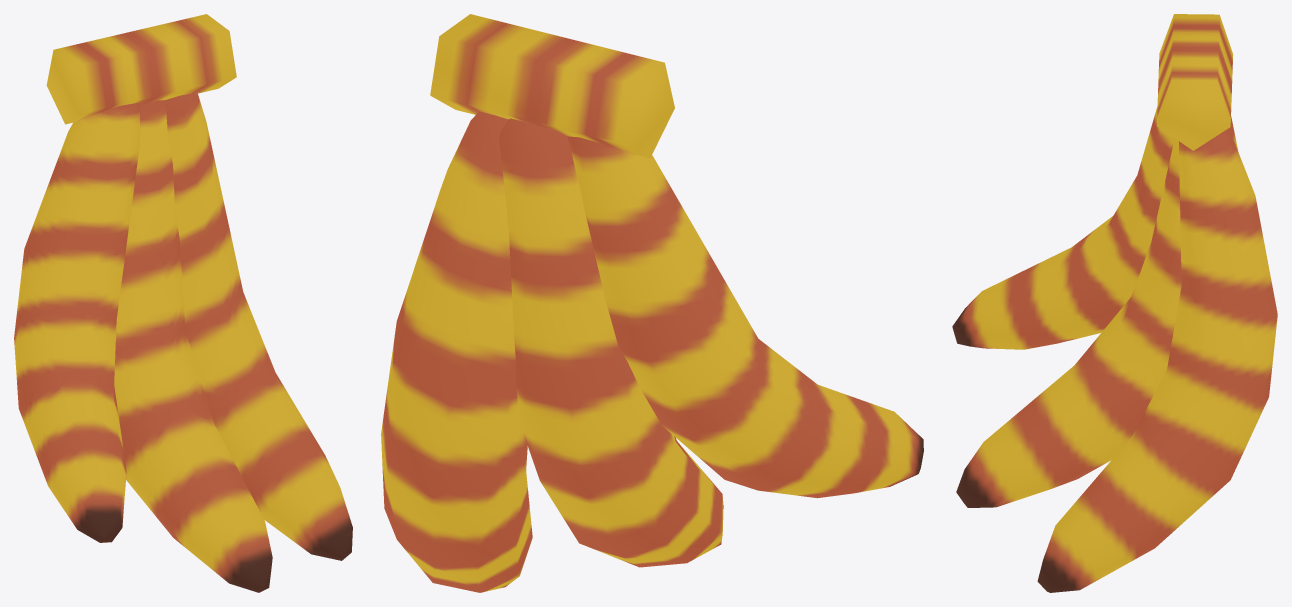
File: Striped_Crescents.fbx
The picture shows the model from 3 angles, left to right: view 1: azimuth 30°, elevation 25°; view 2: azimuth 150°, elevation 25°; view 3: azimuth 270°, elevation 25°; orthographic projection. The views are drawn at different scales.
Parts seen in each view (by area): view 1: Striped_Crescents; view 2: Striped_Crescents; view 3: Striped_Crescents.
Part boxes in pixels (box(x1,y1,x2,y2)): Striped_Crescents: box(14, 14, 352, 592); Striped_Crescents: box(381, 14, 923, 592); Striped_Crescents: box(952, 14, 1277, 592).
Size of the model in its own units: 1.14 by 1.86 by 1.27.
